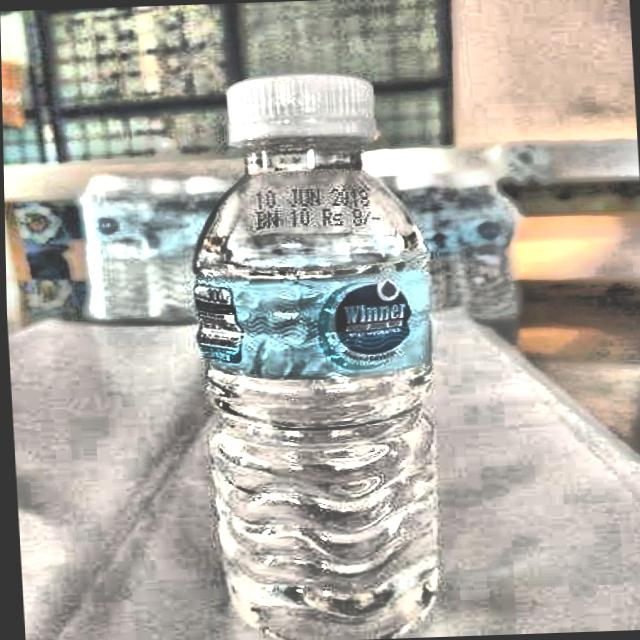Bottles: (156, 52, 483, 640)
